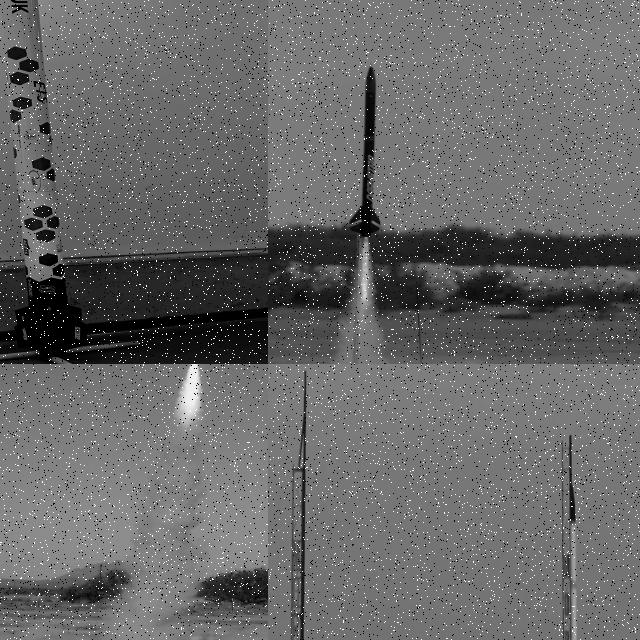Rocket: (349, 62, 382, 239), (563, 482, 586, 640)
